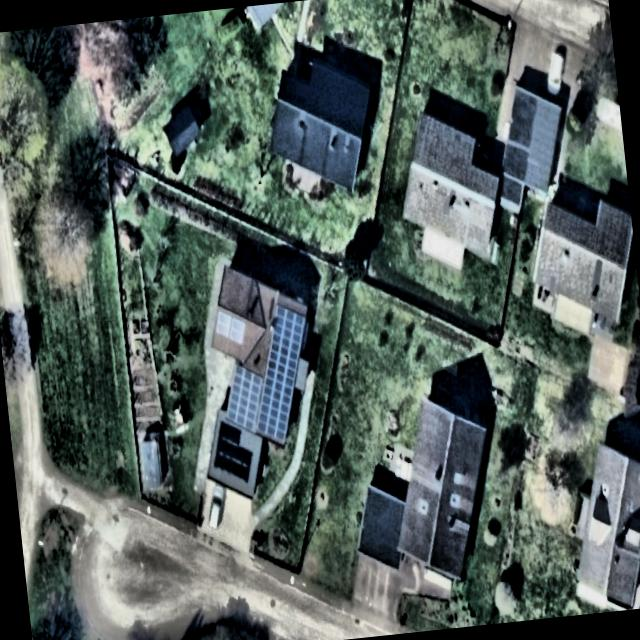roof_pv: (250, 300, 320, 448), (218, 358, 268, 434)
